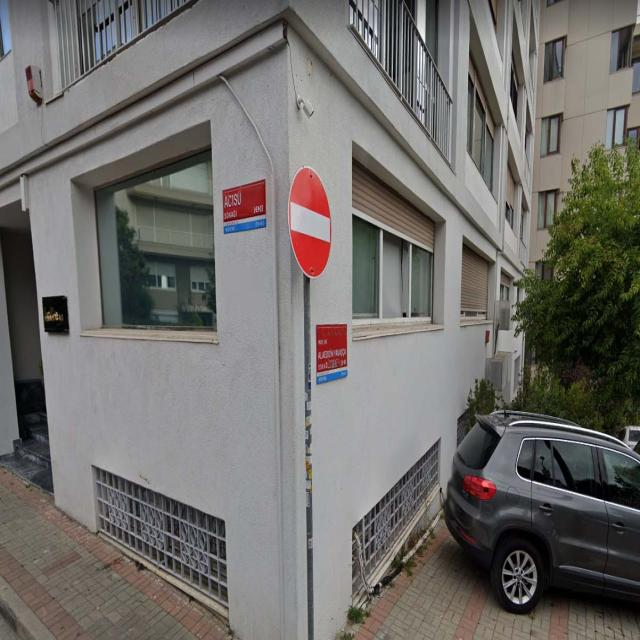girisyok: (290, 166, 332, 277)
